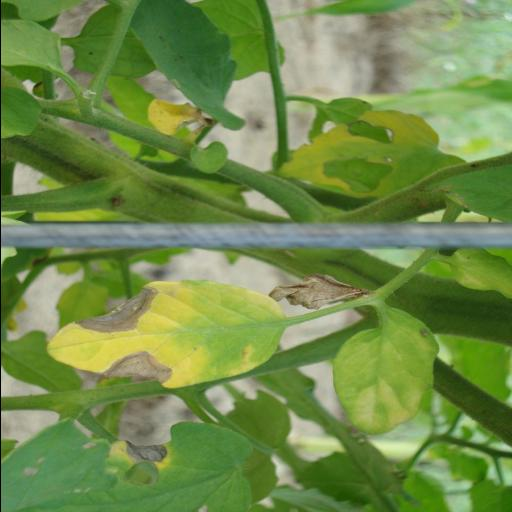Early Blight: (46, 277, 290, 383)
